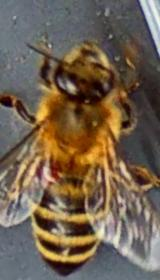varroa_mite: (28, 159, 73, 195)
